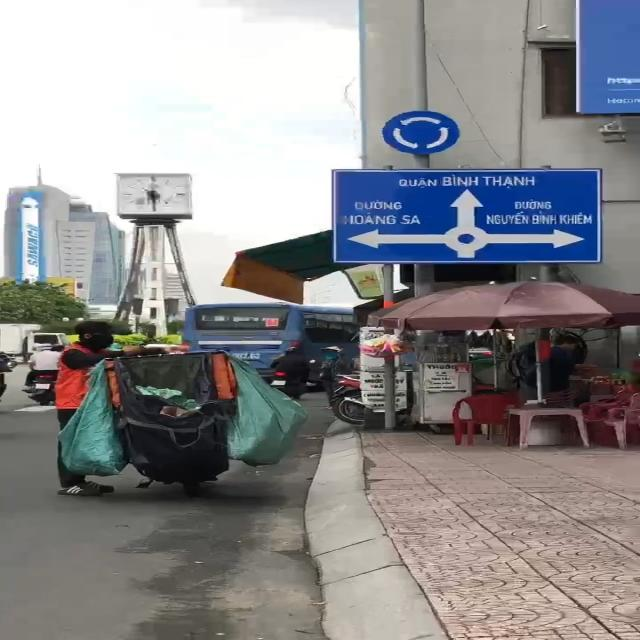Bien bao noi giao nhau chay theo vong xuyen: (378, 107, 462, 157)
